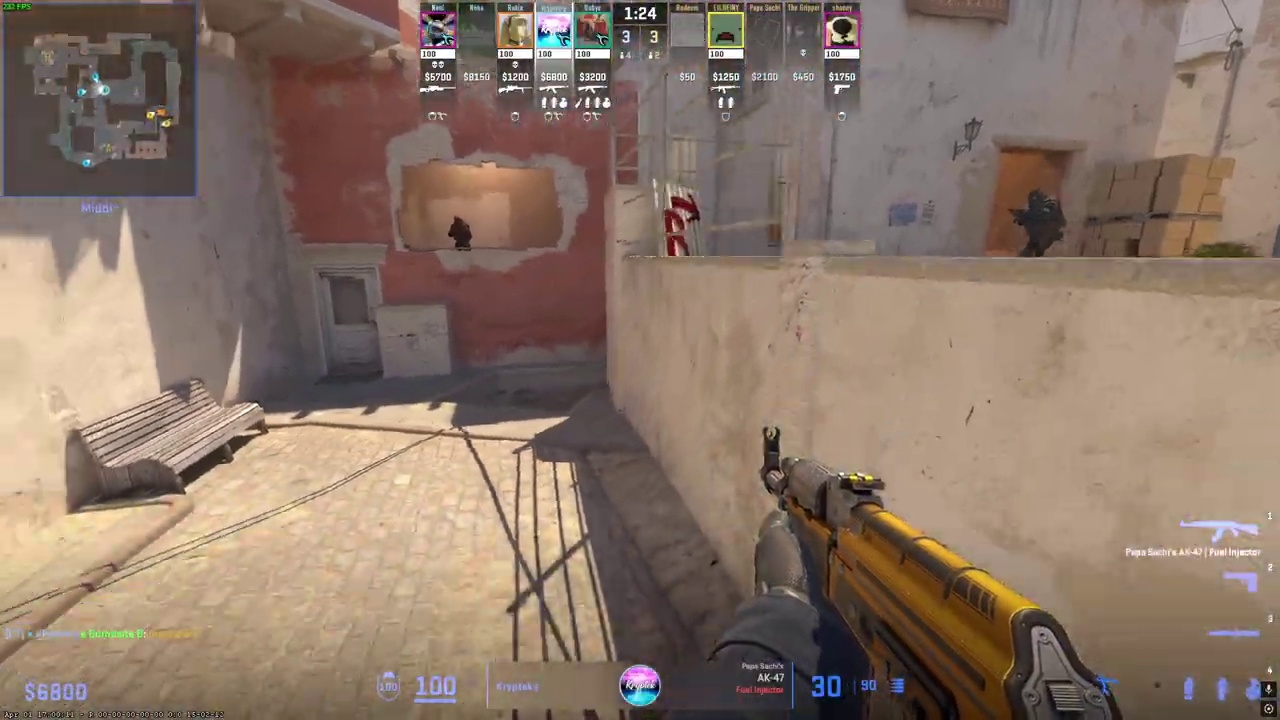CT: (1017, 187, 1067, 258), (449, 216, 472, 251)
